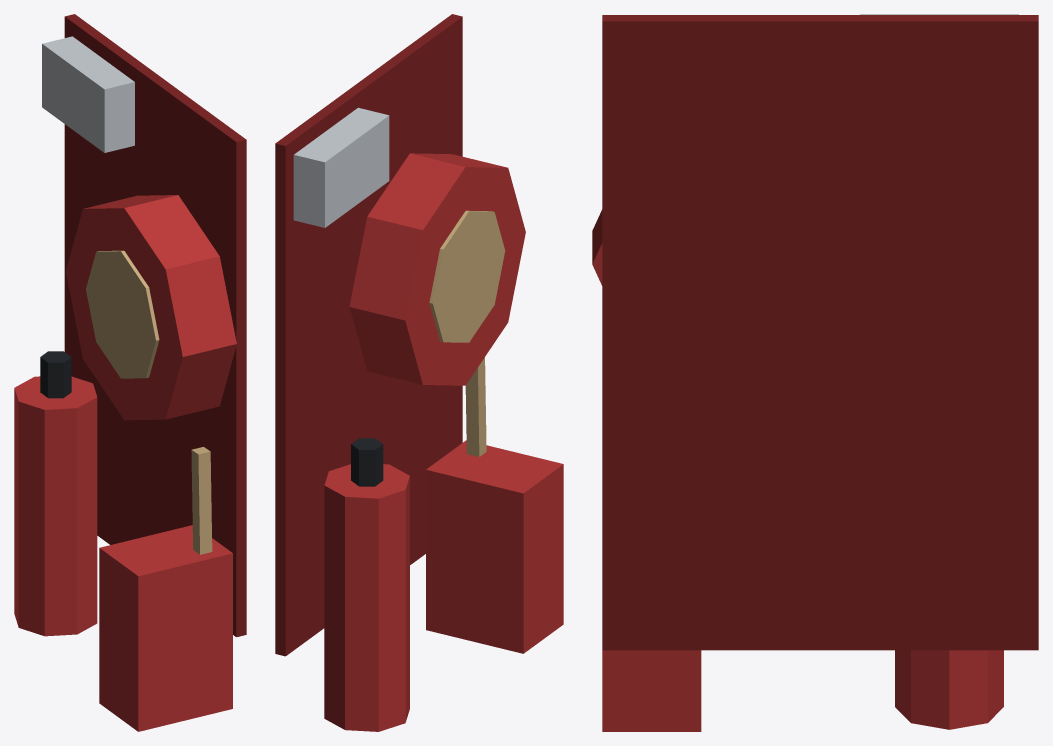
The model's file is env_carrier_firestation.fbx.
The picture shows the model from 3 angles, left to right: view 1: azimuth 30°, elevation 25°; view 2: azimuth 150°, elevation 25°; view 3: azimuth 270°, elevation 25°; orthographic projection. The views are drawn at different scales.
Visible parts, largest first — view 1: env_carrier_firestation; view 2: env_carrier_firestation; view 3: env_carrier_firestation.
Part boxes in pixels (<box>): env_carrier_firestation: <box>14,14,246,731</box>; env_carrier_firestation: <box>275,14,563,731</box>; env_carrier_firestation: <box>592,14,1038,731</box>.
Bounding box in the file's own units: 160 × 800 × 450.
